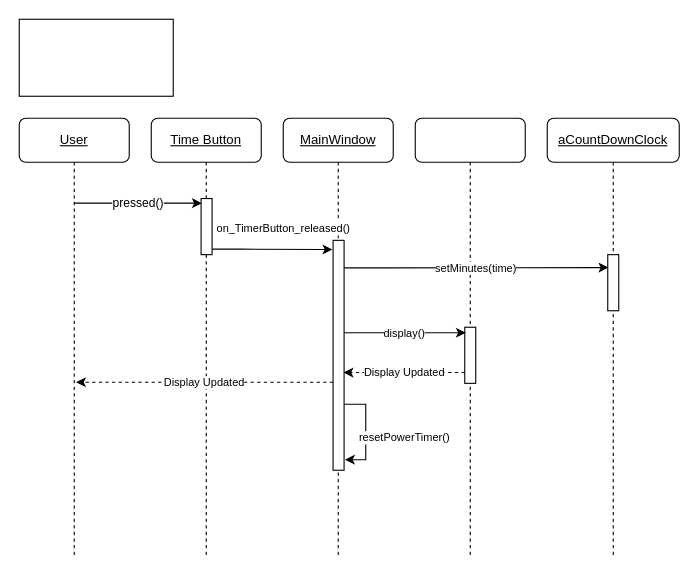
This 699x578 diagram has some shape labels left out. Each missing label, with the centre of its shape:
aQLCDNumber: the point at 469,337
Select new time frame Sequence Diagram (Use Case 4): the point at 95,57
